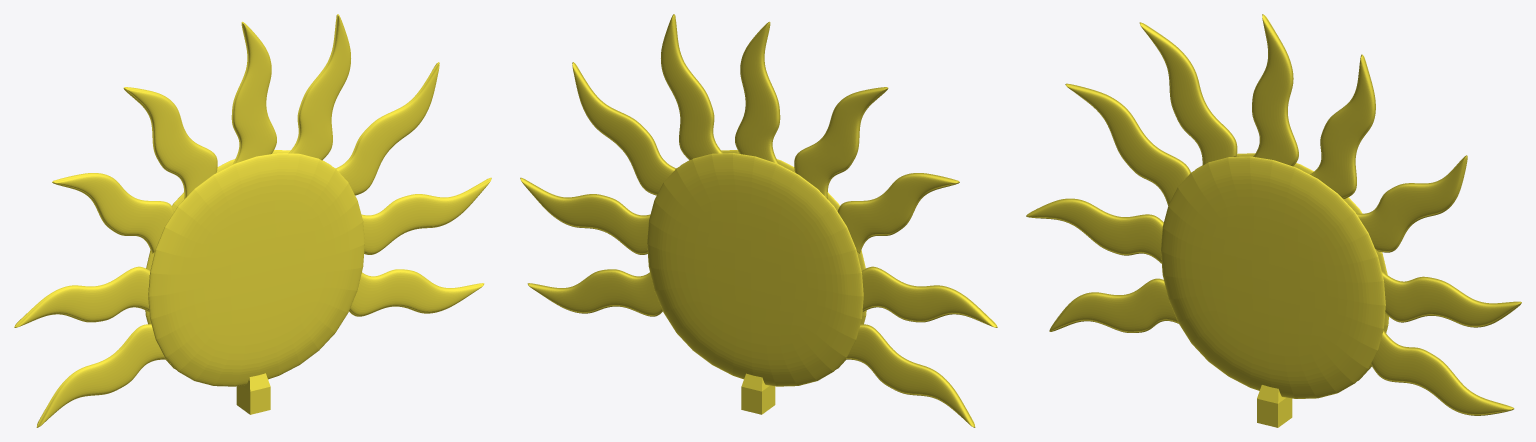
The model's file is Reliquia1.fbx.
The picture shows the model from 3 angles, left to right: view 1: azimuth 30°, elevation 25°; view 2: azimuth 150°, elevation 25°; view 3: azimuth 330°, elevation 25°; orthographic projection. The views are drawn at different scales.
Parts seen in each view (by area): view 1: Cube.004; view 2: Cube.004; view 3: Cube.004.
Boxes of the visible parts, x1,y1,x2,y2 form: Cube.004: (14, 14, 491, 427); Cube.004: (520, 14, 997, 427); Cube.004: (1026, 14, 1521, 427).
Bounding box in the file's own units: 232 × 181 × 11.48.
